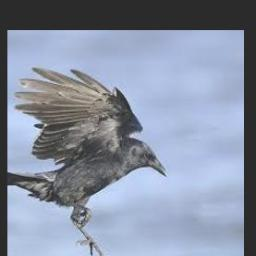Crow: (7, 67, 168, 256)
